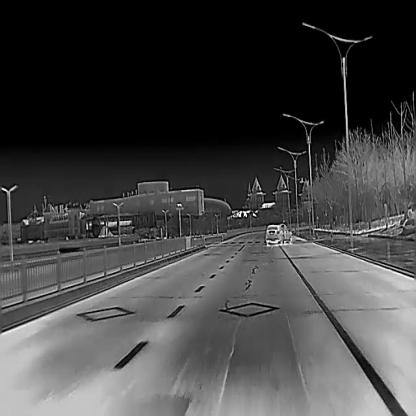car: (264, 221, 292, 245)
